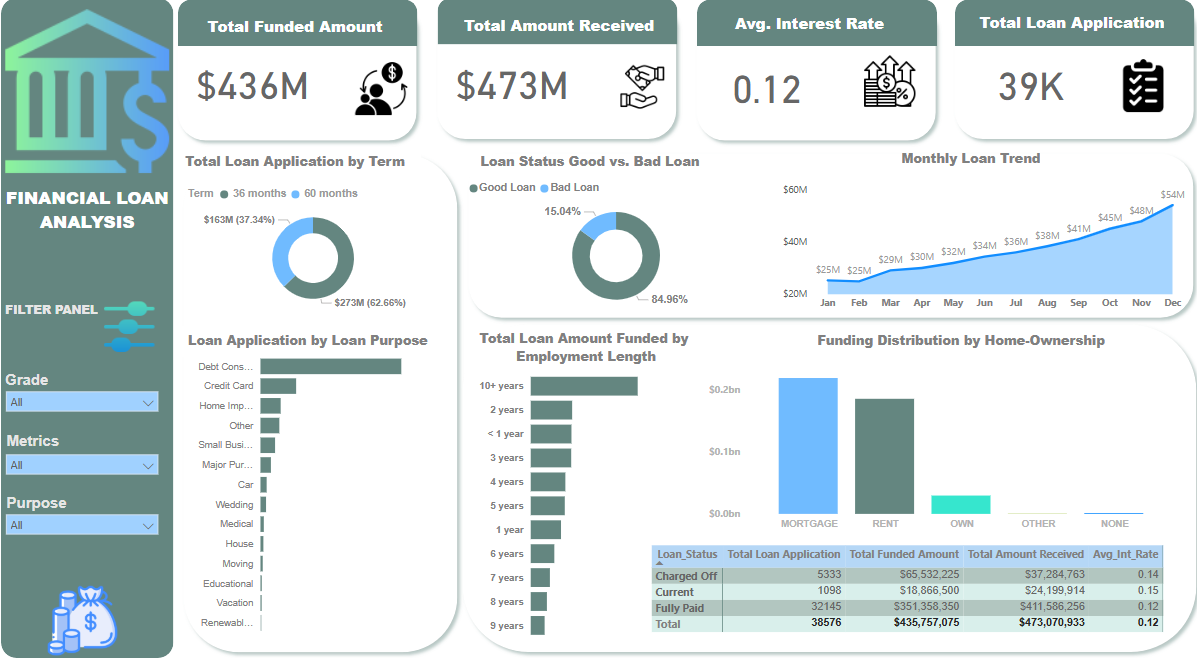

The page's visual inventory and layout, read from the dashboard file:
{"tool":"powerbi","page":{"name":"Page 1","canvas":[1500,830],"ordinal":0},"visuals":[{"type":"shape","box":[222.1,192.3,358.4,638.4],"z":0},{"type":"shape","box":[3.7,7.5,214.7,821.3],"z":1000},{"type":"shape","box":[214.7,1.9,315.5,192.3],"z":2000},{"type":"shape","box":[224,9.8,298,57.9],"z":3000},{"type":"shape","box":[537.6,0.2,315.5,192],"z":4000},{"type":"shape","box":[546.9,7.7,298.7,57.9],"z":5000},{"type":"shape","box":[1181.7,0.2,315.5,192],"z":6000},{"type":"shape","box":[1191,9.5,298,57.9],"z":7000},{"type":"shape","box":[860.2,1.7,315.5,192],"z":8000},{"type":"shape","box":[869.5,9.1,298.7,57.9],"z":9000},{"type":"card","fields":{"Values":["Measure_Table.Total Funded Amount"]},"box":[225.9,69.1,181.1,84],"z":10000},{"type":"textbox","box":[224,24.3,291.2,42.9],"z":11000},{"type":"card","fields":{"Values":["Measure_Table.Total Amount Received"]},"box":[552.5,63.5,173.6,93.3],"z":12000},{"type":"textbox","box":[552.5,22.4,291.2,42.9],"z":13000},{"type":"card","fields":{"Values":["Measure_Table.Avg_Int_Rate"]},"box":[879.2,67.2,154.9,97.1],"z":14000},{"type":"textbox","box":[864.2,20.5,291.2,42.9],"z":15000},{"type":"card","fields":{"Values":["Measure_Table.Total Loan Application"]},"box":[1213.3,61.6,143.7,98.9],"z":16000},{"type":"textbox","box":[1190.9,18.7,291.2,42.9],"z":17000},{"type":"image","box":[763.4,74.7,76,87.7],"z":18000},{"type":"image","box":[438.7,76.5,76.5,87.7],"z":19000},{"type":"image","box":[1071.4,67.2,76.5,87.7],"z":20000},{"type":"image","box":[1386.9,72.8,76.5,87.7],"z":21000},{"type":"textbox","box":[0,235.2,222.1,95.2],"z":22000},{"type":"image","box":[3.7,0,214.7,246.4],"z":23000},{"type":"donutChart","fields":{"Y":["Measure_Table.Total Funded Amount"],"Category":["financial_loan.Term"]},"box":[231.5,231.5,321.1,169.9],"z":24000},{"type":"slicer","fields":{"Values":["Metrics.Metrics"]},"box":[726.1,229.6,231.5,149.3],"z":25000},{"type":"shape","box":[569.3,405.1,931.4,425.6],"z":26000},{"type":"shape","box":[576.8,192.3,920.2,222.1],"z":27000},{"type":"lineChart","fields":{"Y":["Measure_Table.Total Funded Amount"],"Category":["Calendar_Table.Month"]},"box":[970.6,231.5,511.5,173.6],"z":28000},{"type":"barChart","fields":{"Y":["Measure_Table.Total Funded Amount"],"Category":["financial_loan.Emp_Length"]},"box":[591.7,453.6,248.3,364],"z":29000},{"type":"barChart","fields":{"Y":["Measure_Table.Total Funded Amount"],"Category":["financial_loan.Purpose"]},"box":[231.5,433.1,326.7,377.1],"z":30000},{"type":"slicer","fields":{"Values":["Metrics.Metrics"]},"box":[0,565.6,209.1,70.9],"z":31000},{"type":"donutChart","fields":{"Y":["Measure_Table.Total Funded Amount"],"Category":["financial_loan.Good/Bad Loan"]},"box":[580.5,224,377.1,179.2],"z":32000},{"type":"clusteredColumnChart","fields":{"Y":["Measure_Table.Total Funded Amount"],"Category":["financial_loan.Home_Ownership"]},"box":[879.2,443.1,591.7,235.2],"z":33000},{"type":"slicer","fields":{"Values":["financial_loan.Grade"]},"box":[0,487.2,209.1,59.7],"z":34000},{"type":"slicer","fields":{"Values":["financial_loan.Purpose"]},"box":[0,640.2,209.1,48.5],"z":35000},{"type":"textbox","box":[227.7,194.1,298.7,37.3],"z":36000},{"type":"textbox","box":[539.5,194.1,393.9,41.1],"z":37000},{"type":"textbox","box":[225.9,416.3,319.2,37.3],"z":38000},{"type":"textbox","box":[1013.6,190.4,393.9,41.1],"z":39000},{"type":"textbox","box":[591.7,414.4,280,54.1],"z":40000},{"type":"textbox","box":[963.2,416.3,470.4,37.3],"z":41000},{"type":"pivotTable","fields":{"Rows":["financial_loan.Loan_Status"],"Values":["Measure_Table.Total Loan Application","Measure_Table.Total Funded Amount","Measure_Table.Total Amount Received","Measure_Table.Avg_Int_Rate"]},"box":[808.2,683.2,670,147],"z":42000},{"type":"textbox","box":[3.7,466.7,151.2,39.2],"z":43000},{"type":"textbox","box":[5.6,543.2,151.2,39.2],"z":44000},{"type":"textbox","box":[5.6,619.7,184.8,42.9],"z":45000},{"type":"textbox","box":[3.7,378.9,298.7,35.5],"z":46000},{"type":"image","box":[112,375.2,102.7,82.1],"z":47000},{"type":"image","box":[48.5,732.9,113.9,97.1],"z":48000}]}

Visuals, with their boxes in screenshot pixels (x1, y1, x2, y2), scaled from the page's 1500x830 canvas onto the 1197x658 screenshot:
shape: <bbox>177, 152, 463, 657</bbox>
shape: <bbox>3, 6, 174, 657</bbox>
shape: <bbox>171, 2, 423, 154</bbox>
shape: <bbox>179, 8, 417, 54</bbox>
shape: <bbox>429, 0, 681, 152</bbox>
shape: <bbox>436, 6, 675, 52</bbox>
shape: <bbox>943, 0, 1195, 152</bbox>
shape: <bbox>950, 8, 1188, 53</bbox>
shape: <bbox>686, 1, 938, 154</bbox>
shape: <bbox>694, 7, 932, 53</bbox>
card - Measure_Table.Total Funded Amount: <bbox>180, 55, 325, 121</bbox>
textbox: <bbox>179, 19, 411, 53</bbox>
card - Measure_Table.Total Amount Received: <bbox>441, 50, 579, 124</bbox>
textbox: <bbox>441, 18, 673, 52</bbox>
card - Measure_Table.Avg_Int_Rate: <bbox>702, 53, 825, 130</bbox>
textbox: <bbox>690, 16, 922, 50</bbox>
card - Measure_Table.Total Loan Application: <bbox>968, 49, 1083, 127</bbox>
textbox: <bbox>950, 15, 1183, 49</bbox>
image: <bbox>609, 59, 670, 129</bbox>
image: <bbox>350, 61, 411, 130</bbox>
image: <bbox>855, 53, 916, 123</bbox>
image: <bbox>1107, 58, 1168, 127</bbox>
textbox: <bbox>0, 186, 177, 262</bbox>
image: <bbox>3, 0, 174, 195</bbox>
donutChart - Measure_Table.Total Funded Amount x financial_loan.Term: <bbox>185, 184, 441, 318</bbox>
slicer - Metrics.Metrics: <bbox>579, 182, 764, 300</bbox>
shape: <bbox>454, 321, 1196, 657</bbox>
shape: <bbox>460, 152, 1195, 329</bbox>
lineChart - Measure_Table.Total Funded Amount x Calendar_Table.Month: <bbox>775, 184, 1183, 321</bbox>
barChart - Measure_Table.Total Funded Amount x financial_loan.Emp_Length: <bbox>472, 360, 670, 648</bbox>
barChart - Measure_Table.Total Funded Amount x financial_loan.Purpose: <bbox>185, 343, 445, 642</bbox>
slicer - Metrics.Metrics: <bbox>0, 448, 167, 505</bbox>
donutChart - Measure_Table.Total Funded Amount x financial_loan.Good/Bad Loan: <bbox>463, 178, 764, 320</bbox>
clusteredColumnChart - Measure_Table.Total Funded Amount x financial_loan.Home_Ownership: <bbox>702, 351, 1174, 538</bbox>
slicer - financial_loan.Grade: <bbox>0, 386, 167, 434</bbox>
slicer - financial_loan.Purpose: <bbox>0, 508, 167, 546</bbox>
textbox: <bbox>182, 154, 420, 183</bbox>
textbox: <bbox>431, 154, 745, 186</bbox>
textbox: <bbox>180, 330, 435, 360</bbox>
textbox: <bbox>809, 151, 1123, 184</bbox>
textbox: <bbox>472, 329, 696, 371</bbox>
textbox: <bbox>769, 330, 1144, 360</bbox>
pivotTable - financial_loan.Loan_Status x Measure_Table.Total Loan Application: <bbox>645, 542, 1180, 657</bbox>
textbox: <bbox>3, 370, 124, 401</bbox>
textbox: <bbox>4, 431, 125, 462</bbox>
textbox: <bbox>4, 491, 152, 525</bbox>
textbox: <bbox>3, 300, 241, 329</bbox>
image: <bbox>89, 297, 171, 363</bbox>
image: <bbox>39, 581, 130, 657</bbox>
